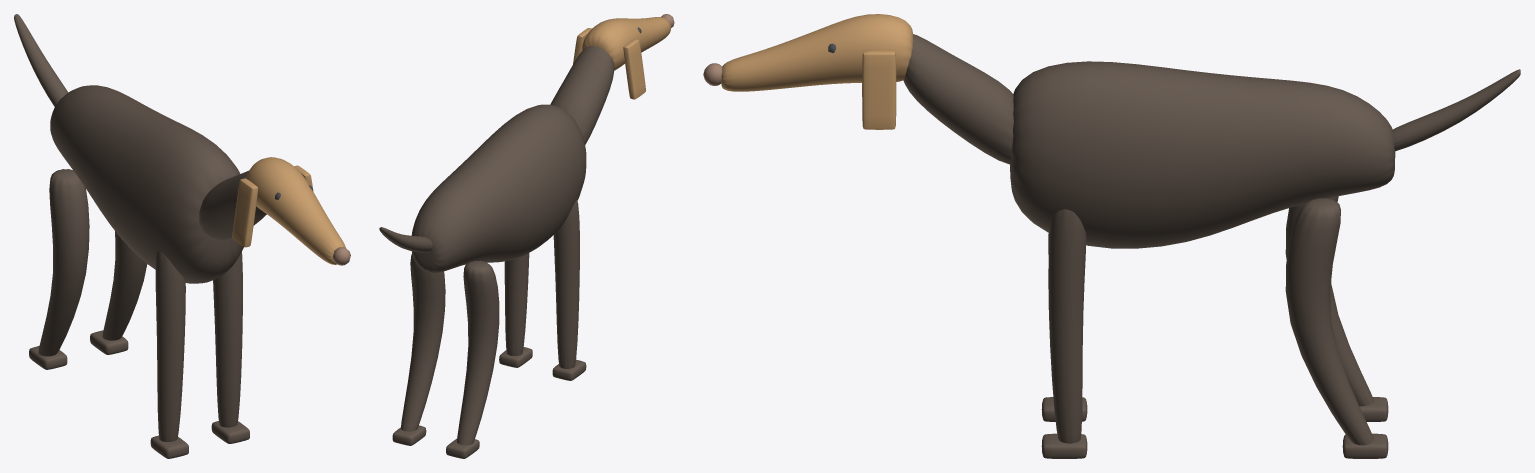
Rendered from dog_ogar.glb.
The picture shows the model from 3 angles, left to right: view 1: azimuth 30°, elevation 25°; view 2: azimuth 150°, elevation 25°; view 3: azimuth 270°, elevation 25°; orthographic projection. The views are drawn at different scales.
Visible parts, largest first — view 1: dog_ogar; view 2: dog_ogar; view 3: dog_ogar.
Boxes of the visible parts, x1,y1,x2,y2 form: dog_ogar: [14, 14, 350, 458]; dog_ogar: [379, 14, 674, 458]; dog_ogar: [703, 14, 1520, 458].
Size of what is drawn, in the model's own units: 0.2427 by 0.8339 by 1.48.
